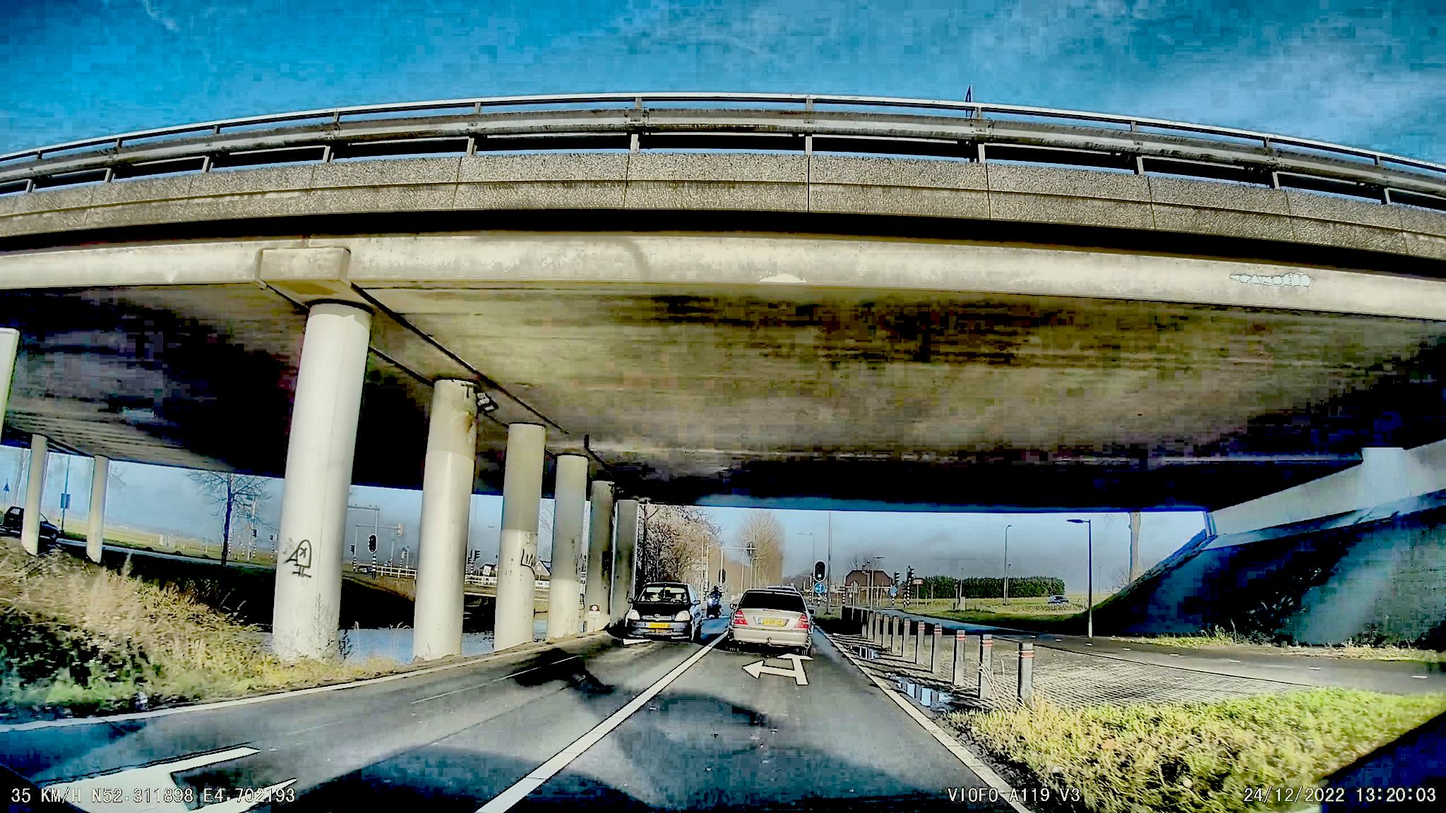Roads: (0, 641, 1092, 813)
